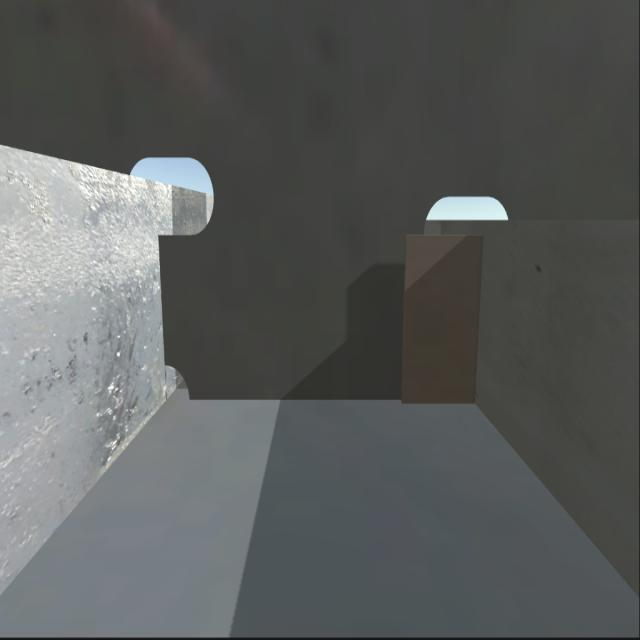fillet_hole: (164, 357, 192, 402)
fillet_yong_jeop_jang: (189, 391, 478, 406)
longi_yong_jeop_jang: (471, 239, 486, 408), (155, 230, 168, 364)
plate_CP01: (400, 234, 478, 400)
